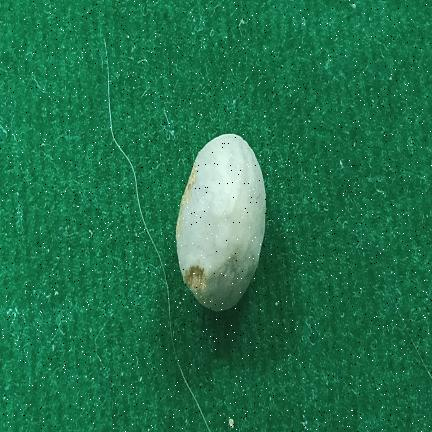good: (176, 134, 266, 311)
